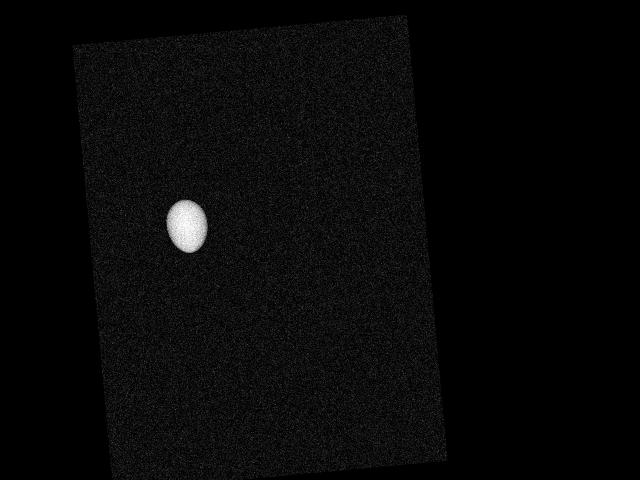egg: (164, 197, 210, 254)
